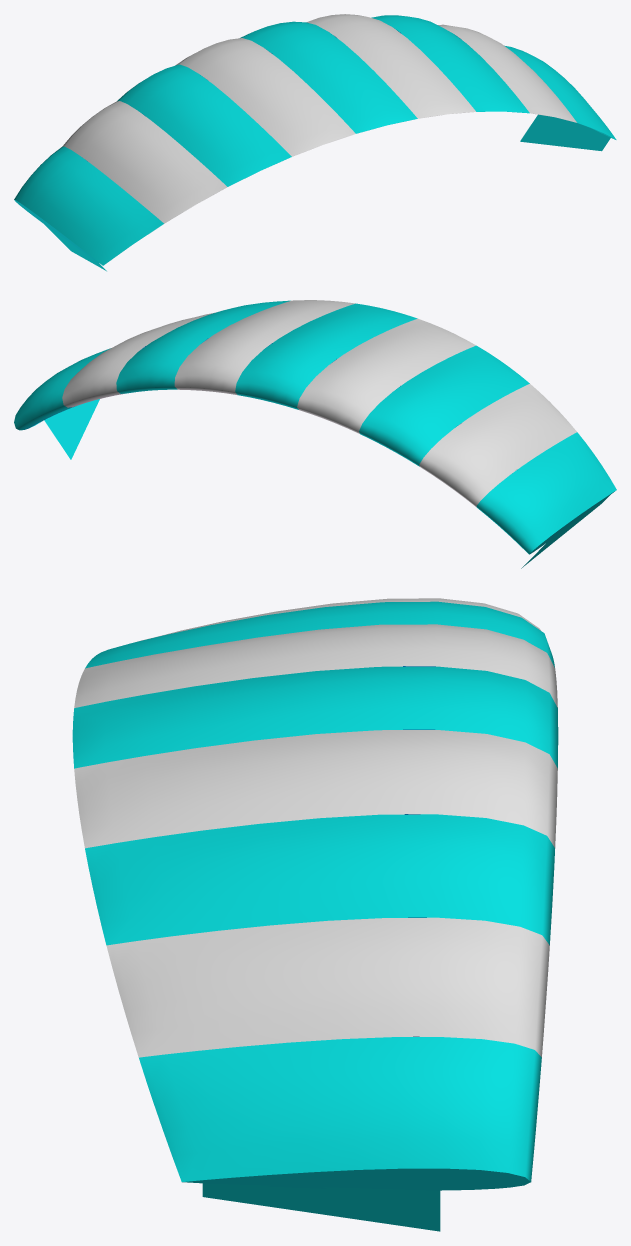
File: canopy.glb
3 views of the same model, one above another, from view 1: azimuth 30°, elevation 25°; view 2: azimuth 150°, elevation 25°; view 3: azimuth 270°, elevation 25° (orthographic). The views are drawn at different scales.
Visible parts, largest first — view 1: Canopy; view 2: Canopy; view 3: Canopy.
Boxes of the visible parts, <box> form: Canopy: <box>14,14,616,271</box>; Canopy: <box>14,300,616,568</box>; Canopy: <box>72,598,558,1231</box>.
Bounding box in the file's own units: 4.55 × 1.34 × 1.8.
